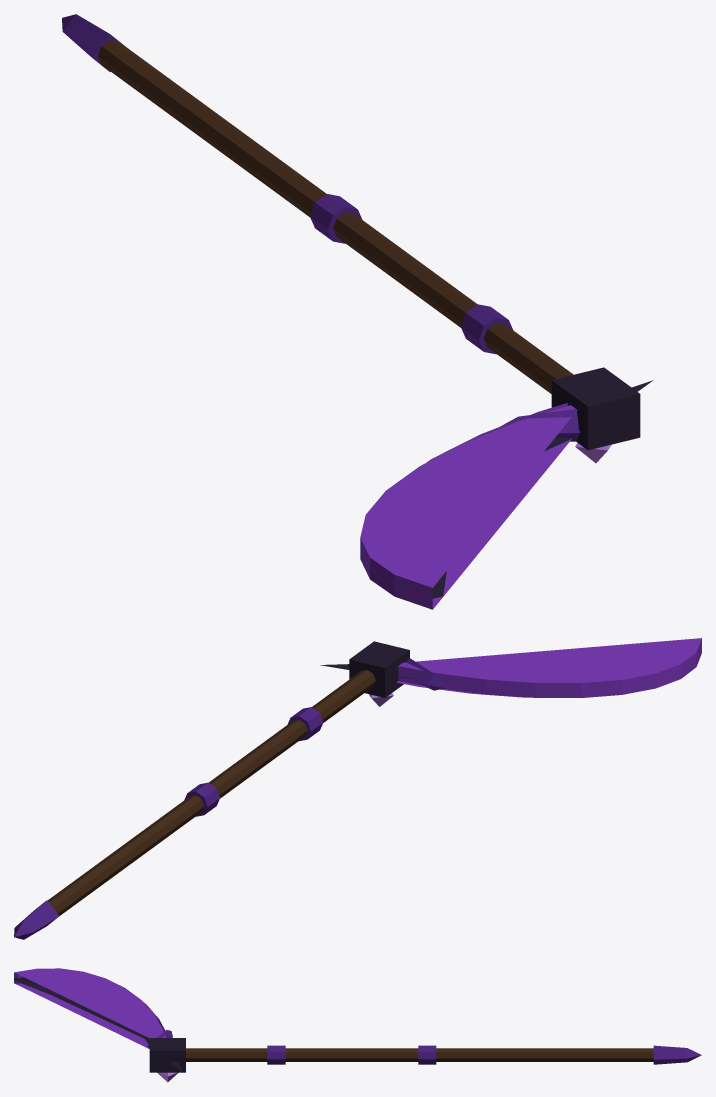
The model's file is 20_Shadow_Reaver_Scythe.glb.
The picture shows the model from 3 angles, top to bottom: view 1: azimuth 30°, elevation 25°; view 2: azimuth 150°, elevation 25°; view 3: azimuth 270°, elevation 25°; orthographic projection. The views are drawn at different scales.
Parts seen in each view (by area): view 1: 20_Shadow_Reaver_Scythe; view 2: 20_Shadow_Reaver_Scythe; view 3: 20_Shadow_Reaver_Scythe.
Part boxes in pixels (x1,y1,x2,y2): 20_Shadow_Reaver_Scythe: (62, 14, 653, 609); 20_Shadow_Reaver_Scythe: (14, 638, 701, 939); 20_Shadow_Reaver_Scythe: (14, 968, 701, 1082).
Bounding box in the file's own units: 0.7773 × 0.14 × 2.28.
